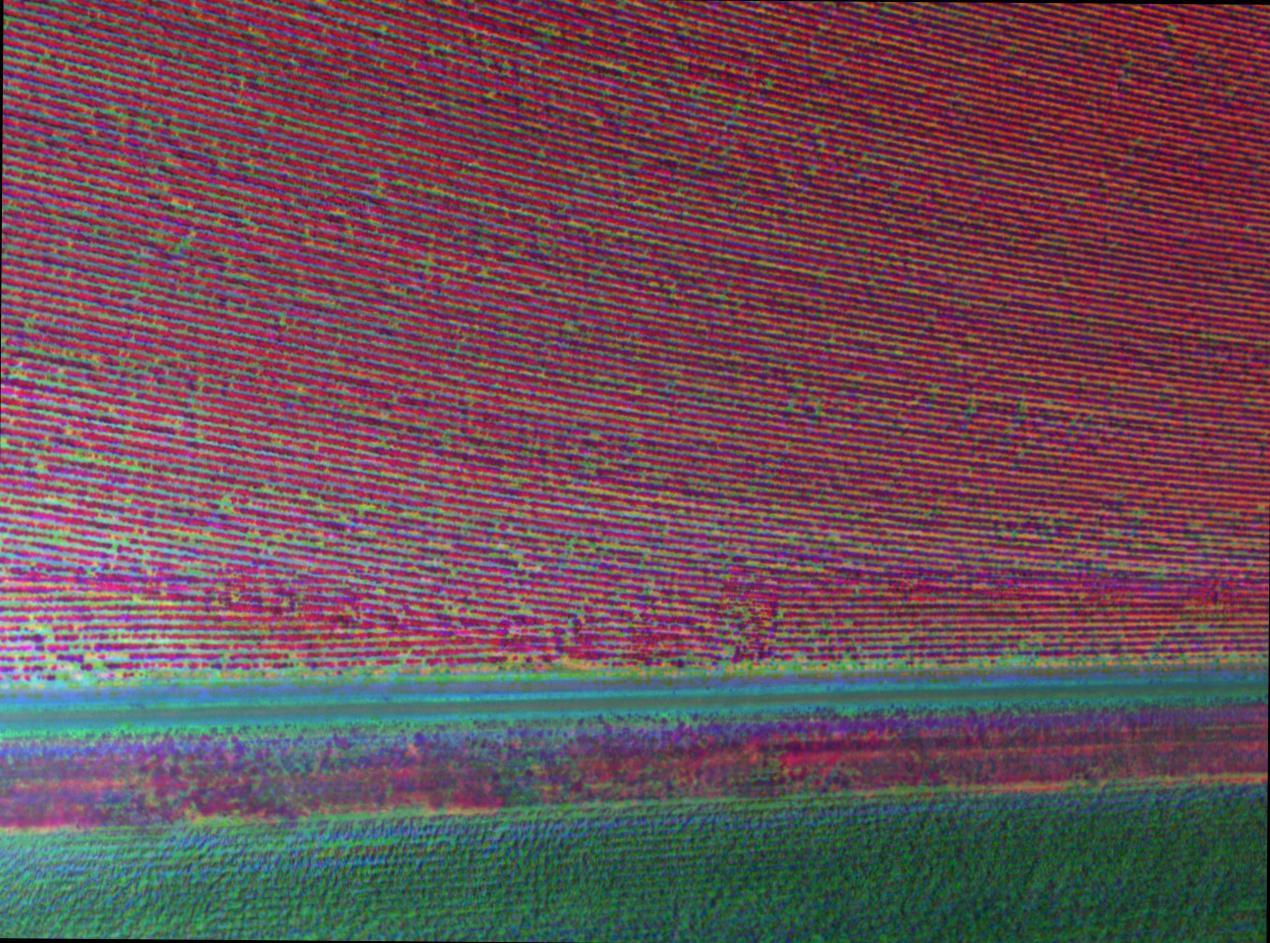dc: (522, 609, 527, 614), (115, 657, 120, 662), (377, 591, 382, 595), (88, 658, 93, 662), (59, 672, 64, 676), (359, 506, 363, 510), (726, 646, 730, 650), (187, 649, 191, 652)
